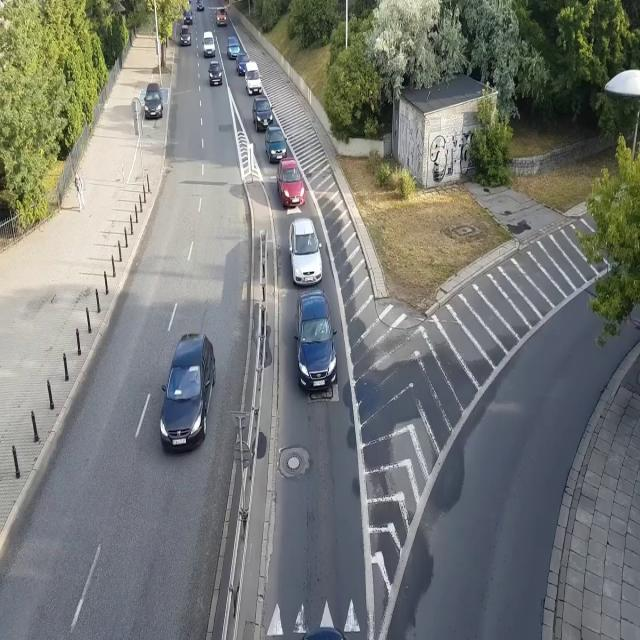car: (157, 330, 217, 452), (294, 288, 339, 392), (288, 217, 324, 284), (276, 156, 306, 206), (264, 125, 288, 161), (252, 96, 274, 130), (144, 82, 162, 120), (208, 59, 223, 87), (235, 51, 251, 77), (227, 35, 240, 59), (215, 7, 228, 28), (180, 24, 192, 46), (195, 0, 206, 12)
van: (244, 61, 263, 96), (201, 31, 217, 58), (182, 9, 194, 25)
